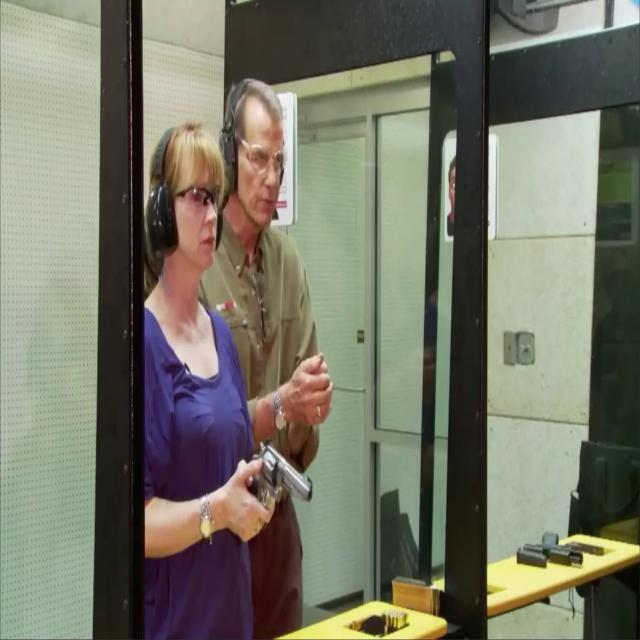Gun: (246, 438, 314, 524)
